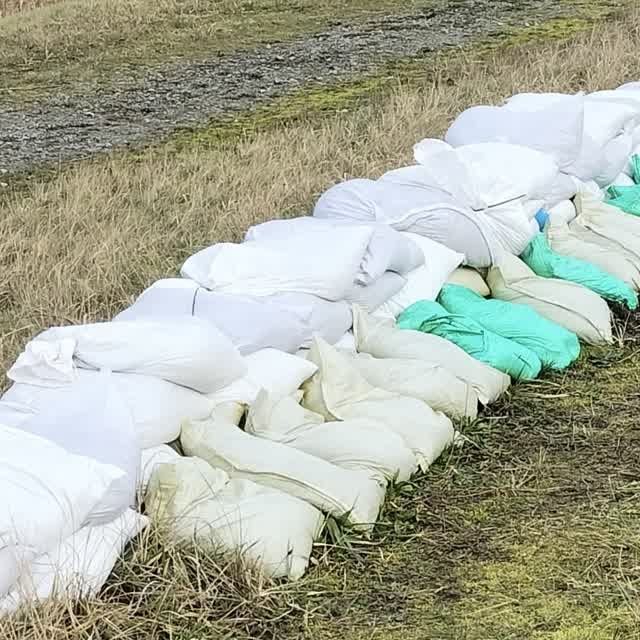sandbag: (181, 402, 385, 529), (142, 452, 324, 579), (10, 340, 218, 449), (0, 425, 119, 597), (0, 382, 140, 523), (314, 178, 530, 269), (303, 341, 455, 470), (114, 278, 350, 351), (248, 392, 417, 484), (42, 321, 245, 395), (353, 311, 509, 404), (181, 225, 370, 299), (245, 216, 420, 287), (398, 301, 540, 381), (439, 290, 580, 370), (486, 254, 611, 344), (445, 101, 585, 168), (344, 353, 479, 419), (522, 233, 639, 309), (380, 232, 461, 319), (550, 222, 640, 290), (209, 350, 311, 404), (571, 192, 640, 270), (606, 153, 640, 217), (344, 273, 401, 310)
